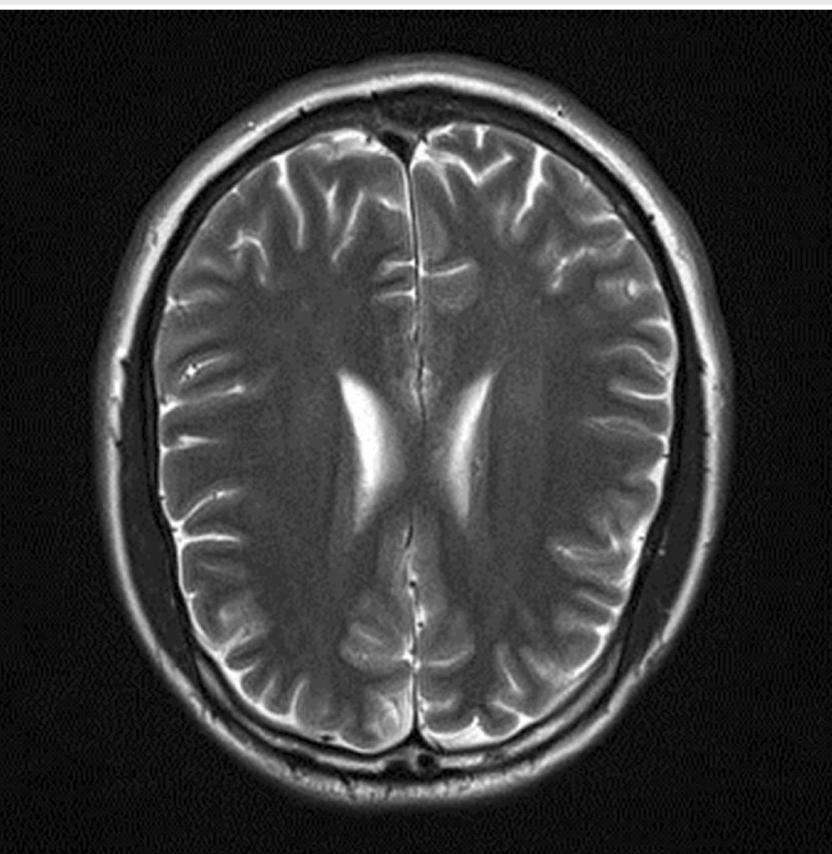Normal_Brain: (1, 1, 832, 854)
